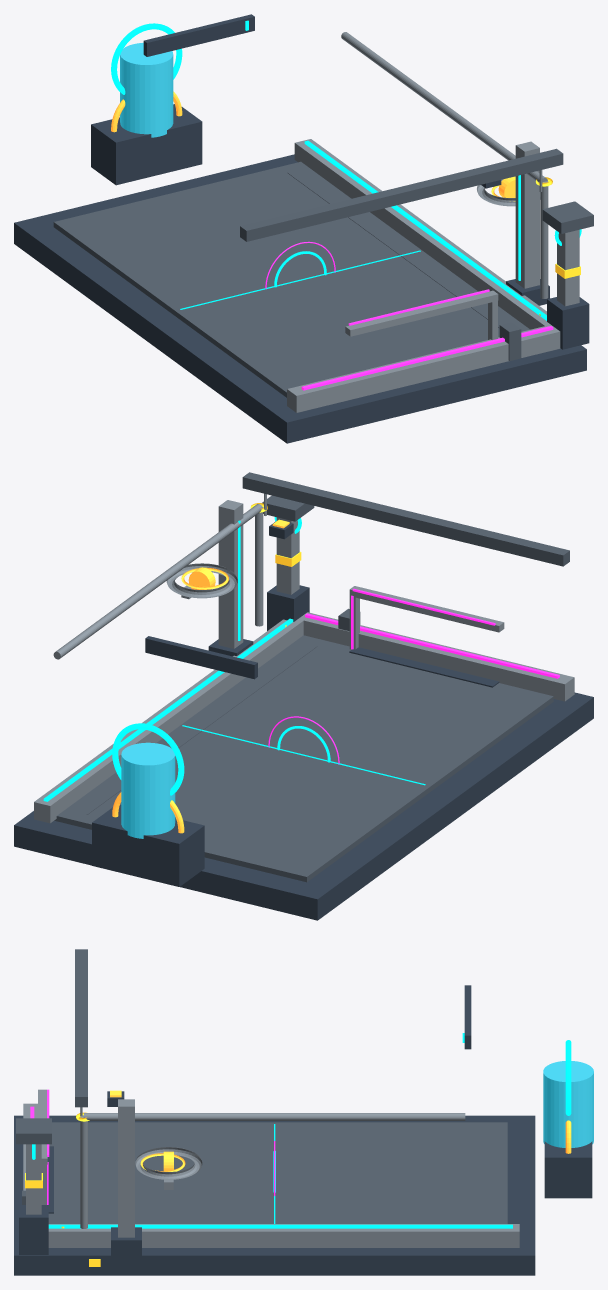
The model's file is neon_strike_cyber_factory_arena.glb.
The picture shows the model from 3 angles, top to bottom: view 1: azimuth 30°, elevation 25°; view 2: azimuth 150°, elevation 25°; view 3: azimuth 270°, elevation 25°; orthographic projection. The views are drawn at different scales.
Parts seen in each view (by area): view 1: Playable graphite deck, Arena structural chassis, End armor rail, Overhead gantry beam, Side armor rail, Furnace reactor pedestal, Reactor containment core, Side support pillar, Upper coolant pipe, Factory identity plate, Goal crossbar, Corner pylon base (+7 smaller); view 2: Playable graphite deck, Arena structural chassis, Overhead gantry beam, Furnace reactor pedestal, Side armor rail, End armor rail, Reactor containment core, Side support pillar, Upper coolant pipe, Factory identity plate, Goal crossbar, Side cyan energy strip (+8 smaller); view 3: Playable graphite deck, Arena structural chassis, Side armor rail, Reactor containment core, Upper coolant pipe, Furnace reactor pedestal, Side support pillar, Side cyan energy strip, Overhead gantry beam, Corner pylon base, Wall turbine outer ring, Corner pylon column (+5 smaller).
Boxes of the visible parts, left/top/right/bottom form: Playable graphite deck: left=53, top=161, right=529, bottom=397; Arena structural chassis: left=14, top=154, right=586, bottom=443; End armor rail: left=287, top=324, right=560, bottom=412; Overhead gantry beam: left=240, top=148, right=563, bottom=241; Side armor rail: left=294, top=139, right=550, bottom=329; Furnace reactor pedestal: left=91, top=104, right=202, bottom=185; Reactor containment core: left=120, top=42, right=173, bottom=137; Side support pillar: left=515, top=141, right=539, bottom=288; Upper coolant pipe: left=341, top=32, right=547, bottom=182; Factory identity plate: left=143, top=14, right=254, bottom=56; Goal crossbar: left=345, top=290, right=498, bottom=336; Corner pylon base: left=547, top=297, right=589, bottom=349; Playable graphite deck: left=54, top=635, right=553, bottom=882; Arena structural chassis: left=14, top=692, right=593, bottom=920; Overhead gantry beam: left=242, top=472, right=569, bottom=566; Furnace reactor pedestal: left=92, top=805, right=204, bottom=886; Side armor rail: left=34, top=615, right=306, bottom=823; End armor rail: left=299, top=612, right=574, bottom=701; Reactor containment core: left=121, top=742, right=175, bottom=838; Side support pillar: left=218, top=500, right=243, bottom=648; Upper coolant pipe: left=53, top=504, right=262, bottom=659; Factory identity plate: left=145, top=636, right=257, bottom=679; Goal crossbar: left=349, top=586, right=504, bottom=632; Side cyan energy strip: left=43, top=618, right=293, bottom=801; Playable graphite deck: left=48, top=1122, right=507, bottom=1223; Arena structural chassis: left=14, top=1115, right=535, bottom=1275; Side armor rail: left=48, top=1224, right=519, bottom=1247; Reactor containment core: left=543, top=1061, right=593, bottom=1147; Upper coolant pipe: left=84, top=1113, right=465, bottom=1120; Furnace reactor pedestal: left=544, top=1141, right=592, bottom=1198; Side support pillar: left=118, top=1099, right=134, bottom=1237; Side cyan energy strip: left=48, top=1224, right=512, bottom=1228; Overhead gantry beam: left=75, top=949, right=87, bottom=1107; Corner pylon base: left=19, top=1205, right=48, bottom=1254; Wall turbine outer ring: left=135, top=1147, right=202, bottom=1179; Corner pylon column: left=26, top=1144, right=41, bottom=1214.
Size of the model in its own units: 7.18 by 4.25 by 10.96.
